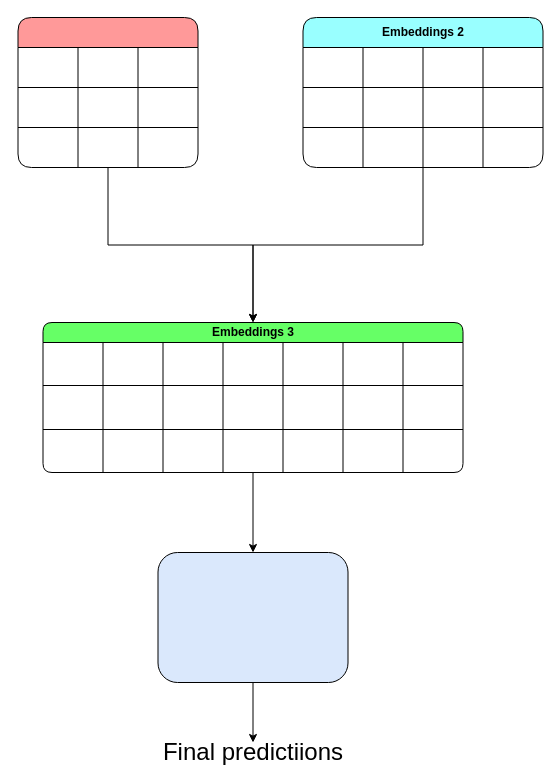
Image size: 560x784. Some labels were removed from this diagram. The box of each missing label's shape, as (x1, y1, x2, y2) in pixels:
Embeddings 1: (17, 16, 198, 168)
KNN/Cosine Predictions: (157, 552, 348, 682)
